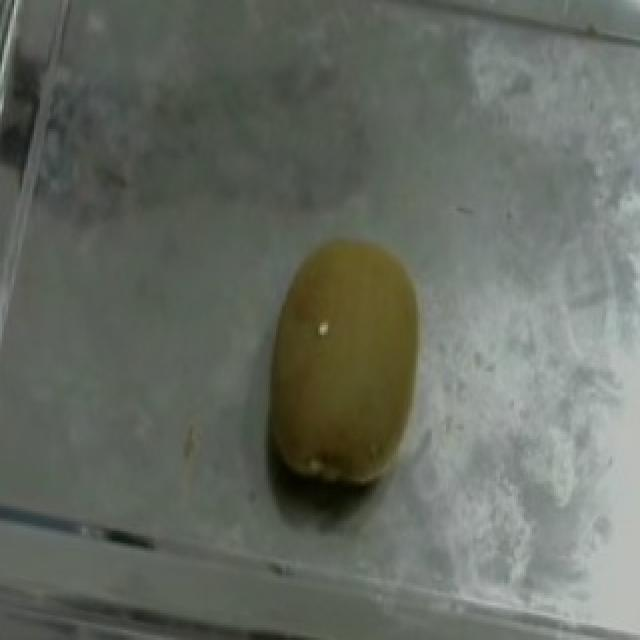Fruit: (226, 211, 462, 526)
